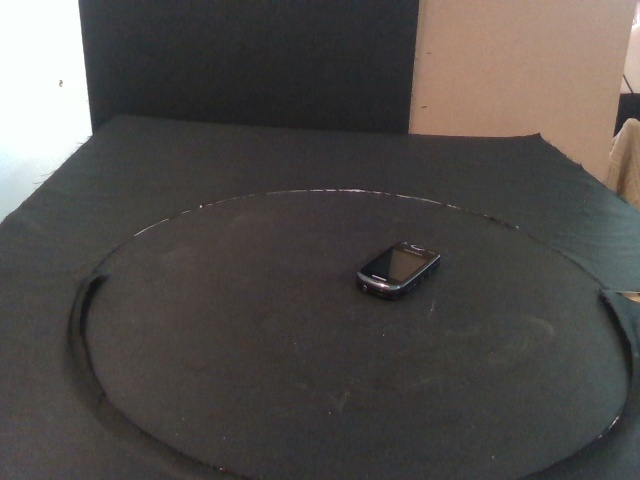phone: (356, 240, 440, 299)
